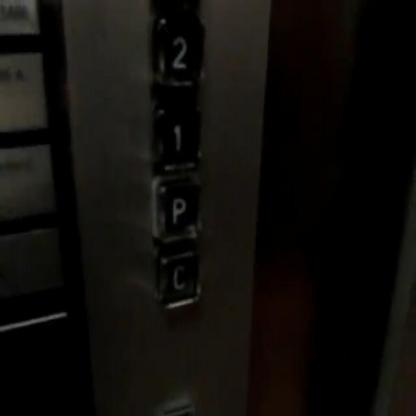1: (146, 100, 202, 175)
2: (146, 13, 206, 89)
C: (153, 244, 206, 316)
P: (149, 172, 205, 245)
